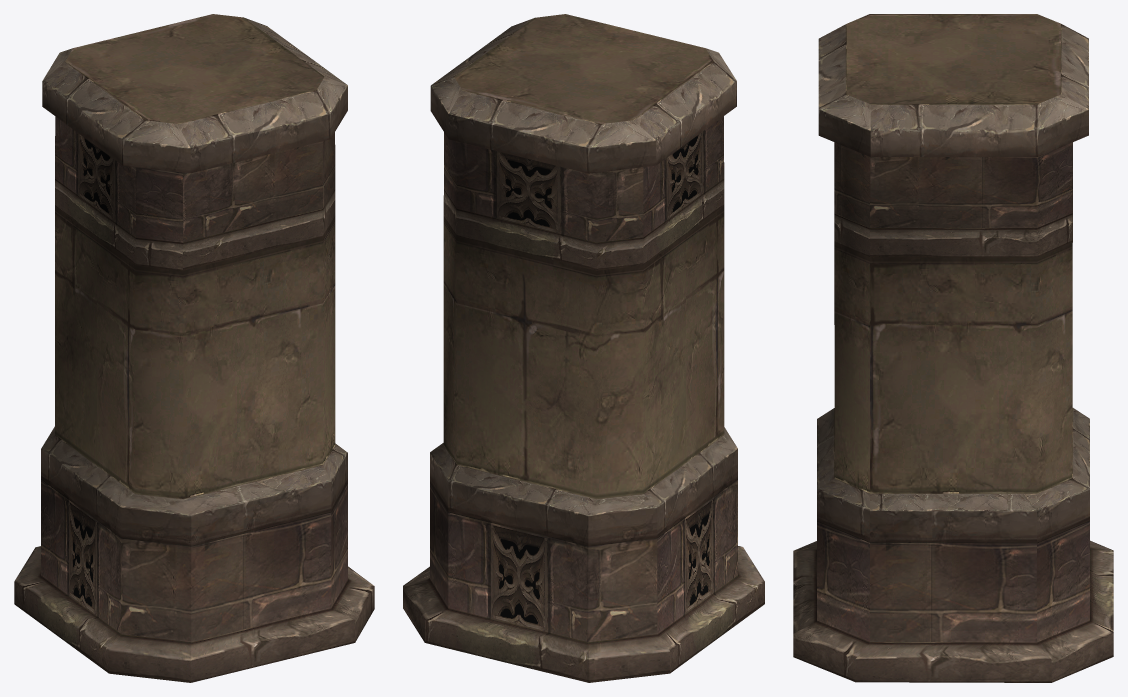
File: A03_pillar_c.FBX
The picture shows the model from 3 angles, left to right: view 1: azimuth 30°, elevation 25°; view 2: azimuth 150°, elevation 25°; view 3: azimuth 270°, elevation 25°; orthographic projection. The views are drawn at different scales.
Parts seen in each view (by area): view 1: A03_pillar_c; view 2: A03_pillar_c; view 3: A03_pillar_c.
Boxes of the visible parts, x1,y1,x2,y2 form: A03_pillar_c: [14, 14, 374, 682]; A03_pillar_c: [403, 14, 764, 682]; A03_pillar_c: [793, 14, 1113, 682].
Size of the model in its own units: 2.56 by 4.93 by 2.57.
